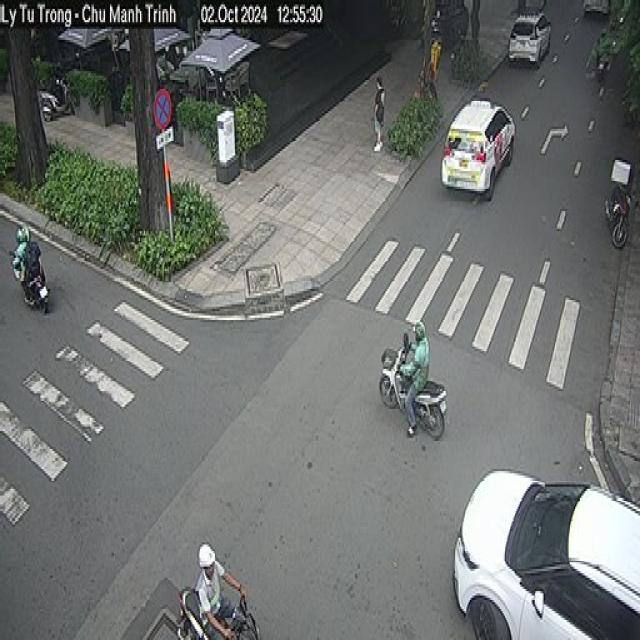car: (451, 455, 640, 639), (443, 98, 515, 199), (508, 11, 554, 70), (584, 0, 614, 25)
motorcycle: (381, 342, 450, 442), (175, 592, 263, 640), (8, 251, 58, 313), (611, 158, 636, 252), (38, 80, 76, 119), (594, 56, 614, 82)
person: (195, 537, 243, 640), (411, 320, 428, 434), (22, 223, 42, 292), (372, 79, 388, 153), (14, 223, 27, 283), (597, 27, 613, 65)
